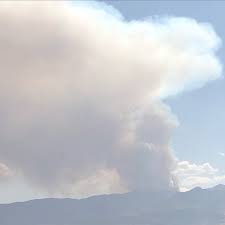smoke: (3, 4, 190, 190)
